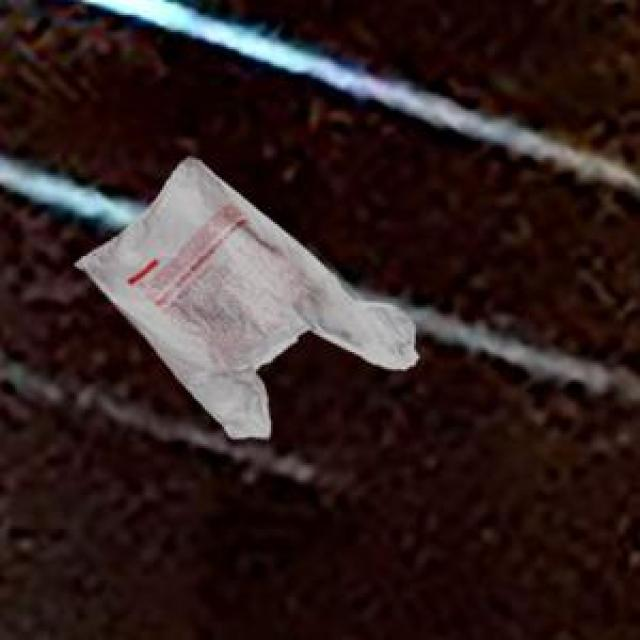plastic: (55, 151, 443, 461)
